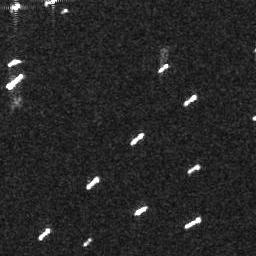ship: (6, 71, 24, 91), (185, 216, 202, 230), (183, 93, 198, 108), (130, 131, 144, 147), (86, 175, 99, 190), (39, 227, 51, 242), (133, 205, 148, 217), (7, 57, 22, 69), (187, 163, 201, 175), (158, 63, 169, 75), (82, 237, 93, 248), (9, 2, 22, 10)
